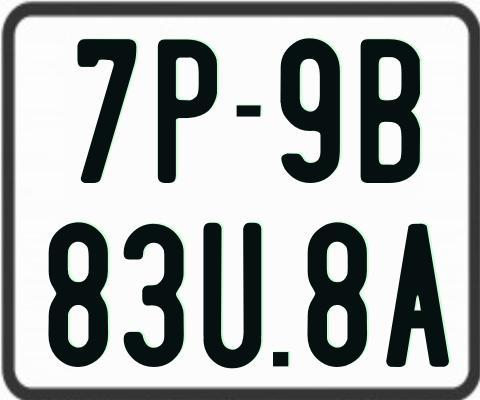3: (124, 221, 184, 365)
7: (76, 38, 135, 183)
8: (48, 222, 114, 368), (305, 222, 367, 371)
9: (280, 38, 340, 188)
A: (386, 221, 452, 370)
B: (361, 39, 422, 183)
P: (158, 39, 219, 187)
U: (200, 222, 262, 367)
